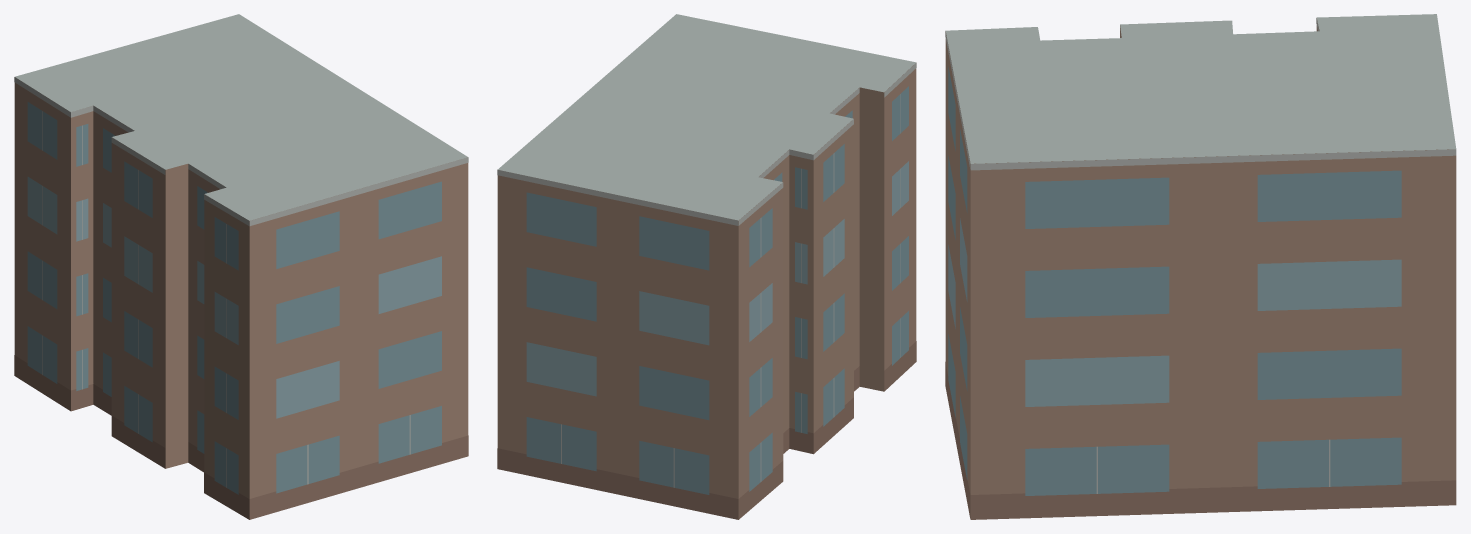
File: survey-upis-32963884.glb
3 views of the same model, side by side, from view 1: azimuth 30°, elevation 25°; view 2: azimuth 150°, elevation 25°; view 3: azimuth 270°, elevation 25° (orthographic). The views are drawn at different scales.
Parts seen in each view (by area): view 1: survey-upis-32963884.tmp; view 2: survey-upis-32963884.tmp; view 3: survey-upis-32963884.tmp.
Part boxes in pixels (left/top/right/bottom): survey-upis-32963884.tmp: left=14, top=14, right=468, bottom=519; survey-upis-32963884.tmp: left=497, top=14, right=916, bottom=519; survey-upis-32963884.tmp: left=945, top=14, right=1456, bottom=519.
Bounding box in the file's own units: 11.97 × 13.25 × 17.24.
